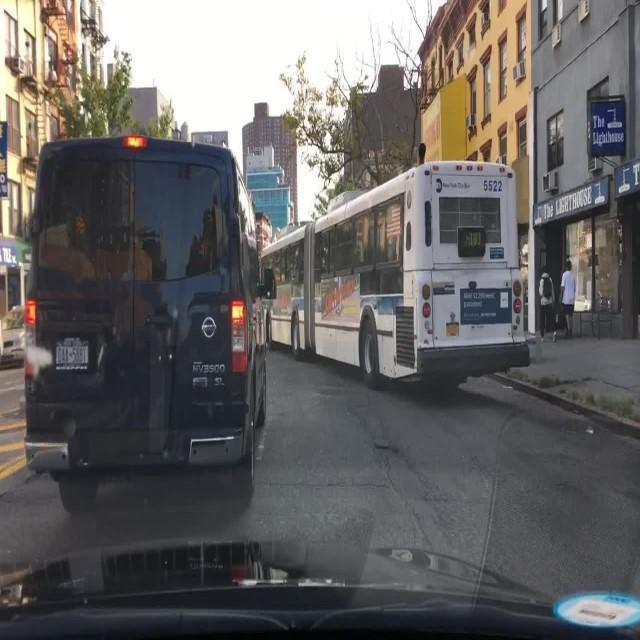normal: (13, 123, 288, 526)
